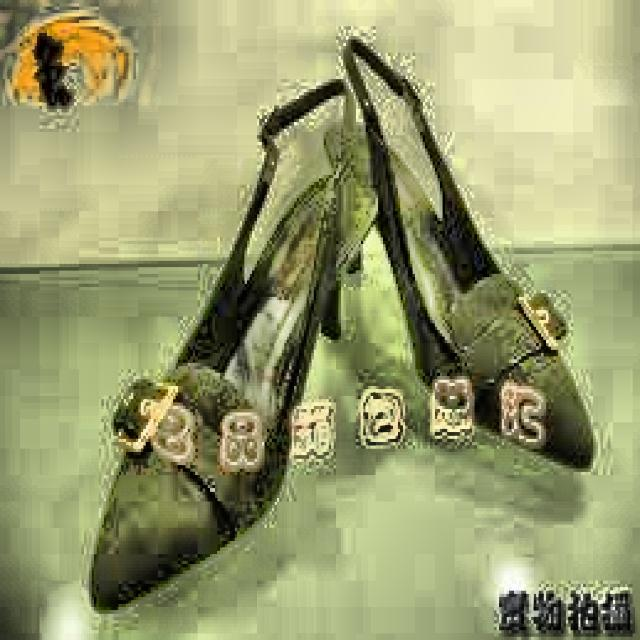shoes: (79, 29, 617, 618)
